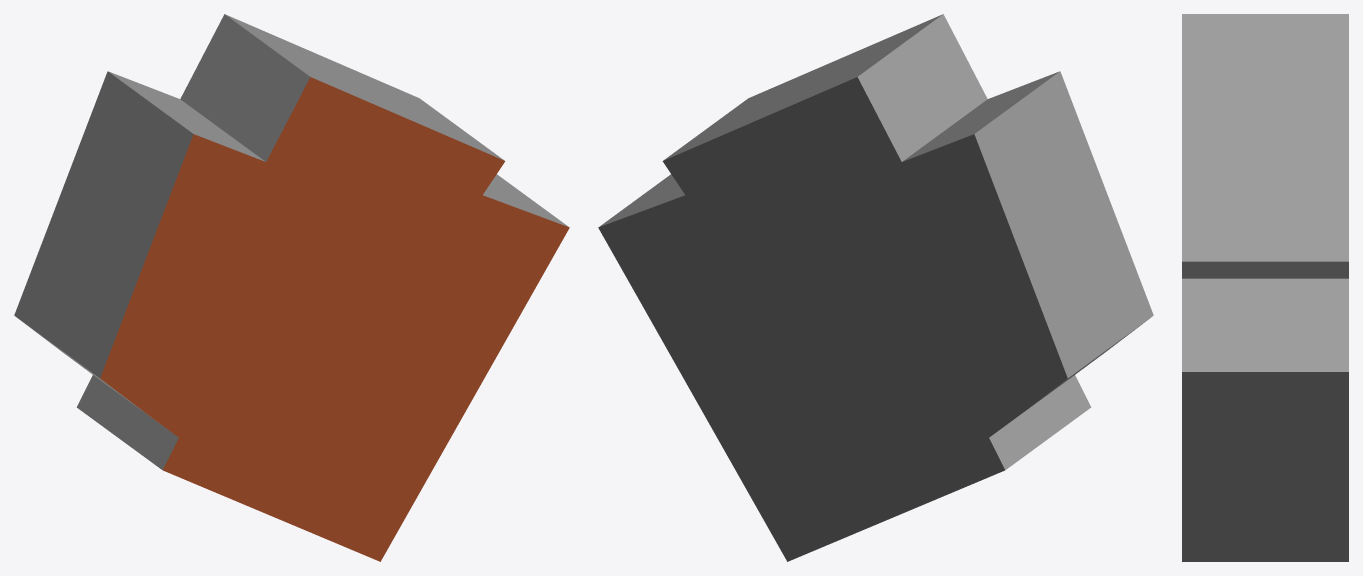
File: construction_0363_assumed_A_Casa_h6m.obj
3 renders of one model, left to right at view 1: azimuth 30°, elevation 25°; view 2: azimuth 150°, elevation 25°; view 3: azimuth 270°, elevation 25°, orthographic. The views are drawn at different scales.
Visible parts, largest first — view 1: construction_0363_assumed_A_Casa; view 2: construction_0363_assumed_A_Casa; view 3: construction_0363_assumed_A_Casa.
Boxes of the visible parts, box(x1,y1,x2,y2) form: construction_0363_assumed_A_Casa: box(14, 14, 569, 561); construction_0363_assumed_A_Casa: box(598, 14, 1153, 561); construction_0363_assumed_A_Casa: box(1182, 14, 1348, 561).
Bounding box in the file's own units: 18.93 × 19.34 × 6.
